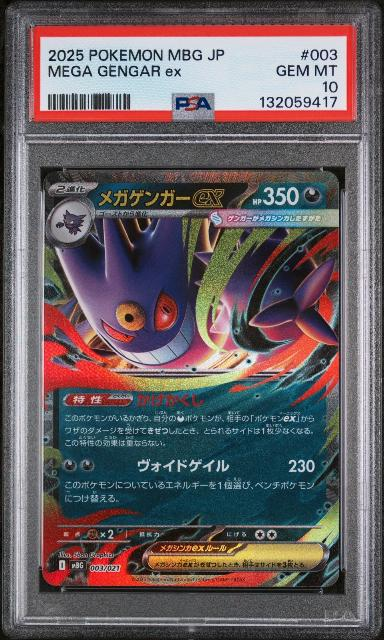Card: (38, 164, 348, 597)
Name: (95, 183, 230, 214)
